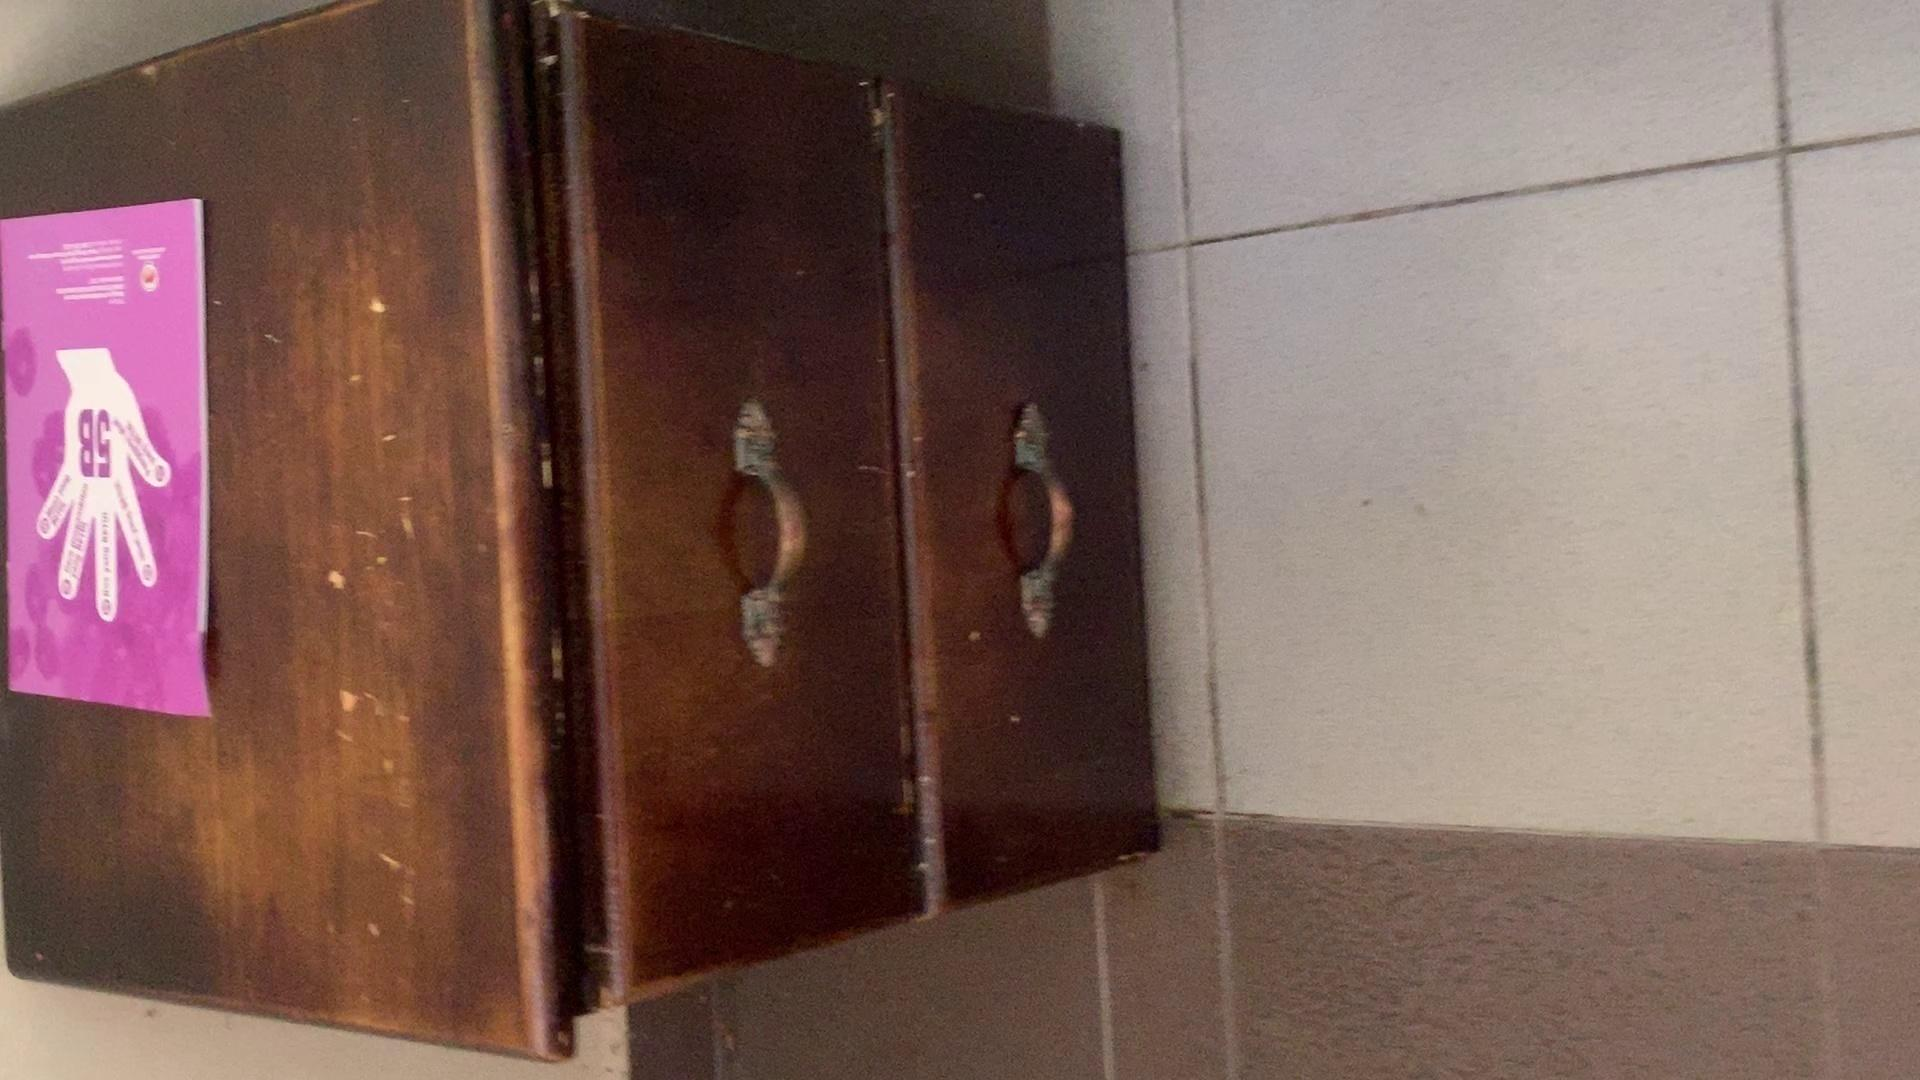cabinet_door: (580, 69, 882, 943), (911, 117, 1135, 856)
handle: (712, 388, 816, 678), (996, 394, 1081, 646)
